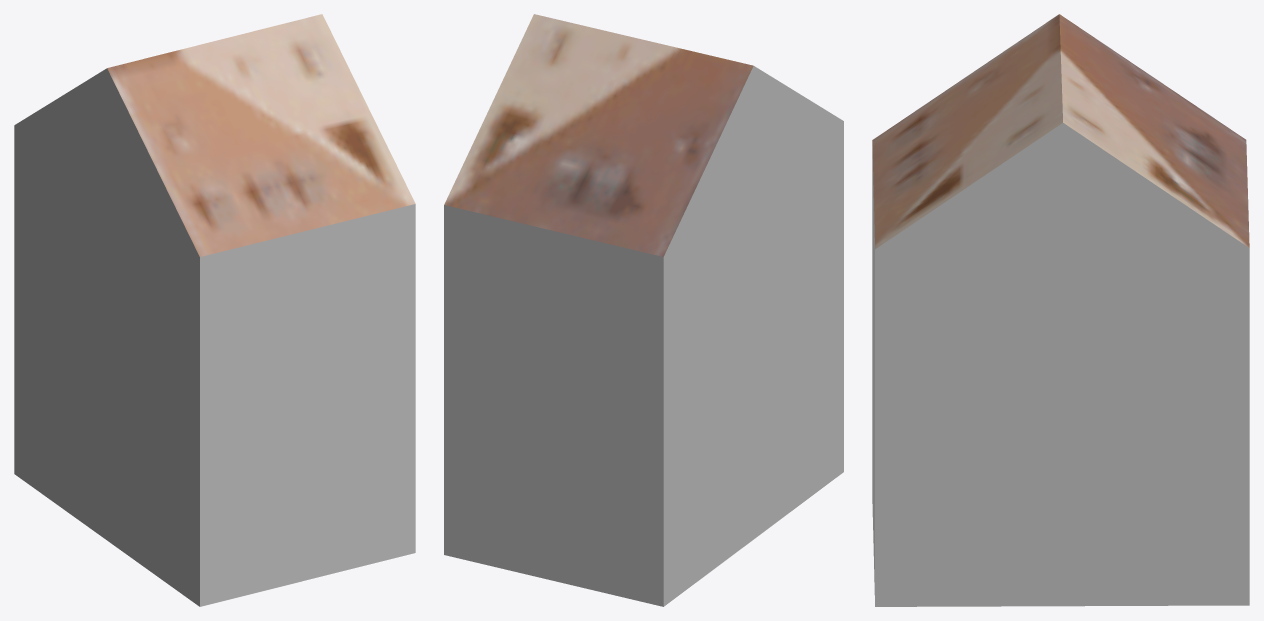
File: DEBW_0010007Txh9.gltf
The picture shows the model from 3 angles, left to right: view 1: azimuth 30°, elevation 25°; view 2: azimuth 150°, elevation 25°; view 3: azimuth 270°, elevation 25°; orthographic projection. The views are drawn at different scales.
Visible parts, largest first — view 1: Z_UP; view 2: Z_UP; view 3: Z_UP.
Boxes of the visible parts, left/top/right/bottom form: Z_UP: left=14, top=14, right=415, bottom=606; Z_UP: left=444, top=14, right=843, bottom=606; Z_UP: left=872, top=14, right=1249, bottom=606.
Bounding box in the file's own units: 10.33 × 21.18 × 14.97.
2 materials, 1 textured.
